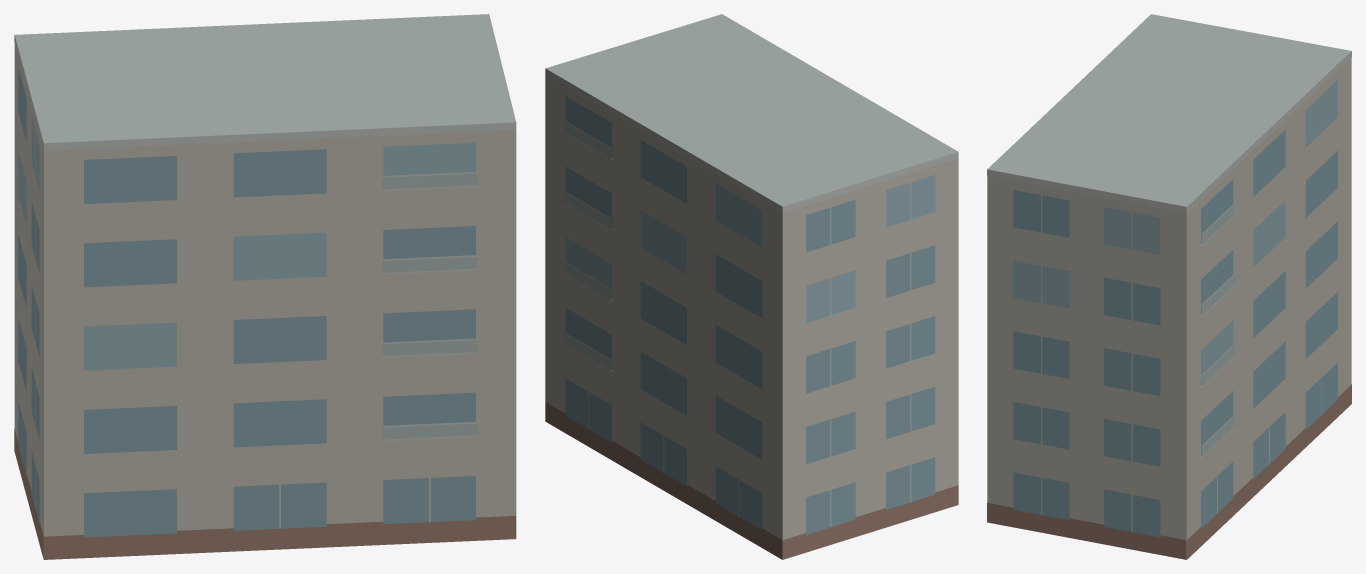
File: survey-upis-32995836.glb
The picture shows the model from 3 angles, left to right: view 1: azimuth 30°, elevation 25°; view 2: azimuth 150°, elevation 25°; view 3: azimuth 270°, elevation 25°; orthographic projection. The views are drawn at different scales.
Visible parts, largest first — view 1: survey-upis-32995836.tmp; view 2: survey-upis-32995836.tmp; view 3: survey-upis-32995836.tmp.
Boxes of the visible parts, bbox=[...] form: survey-upis-32995836.tmp: bbox=[14, 14, 516, 559]; survey-upis-32995836.tmp: bbox=[545, 14, 958, 559]; survey-upis-32995836.tmp: bbox=[987, 14, 1351, 559].
Bounding box in the file's own units: 15.95 × 13.6 × 12.74.
